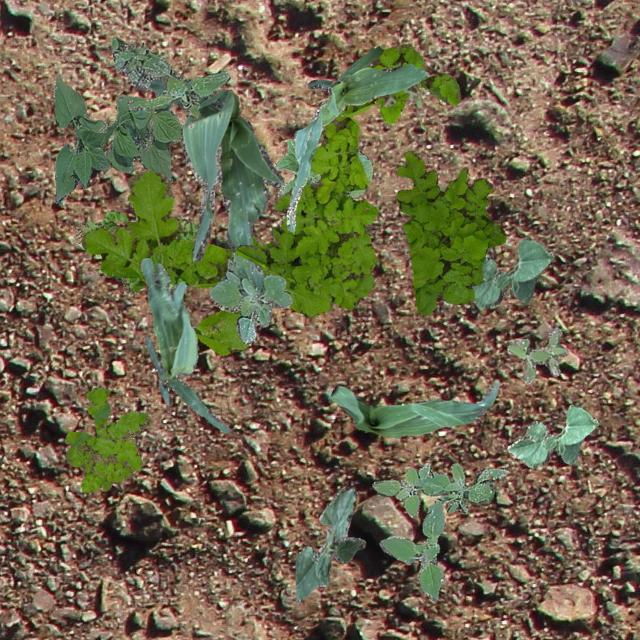crop: (130, 78, 282, 294), (285, 45, 427, 232), (52, 74, 182, 202), (140, 256, 228, 432), (330, 379, 498, 436), (294, 486, 364, 602), (273, 138, 372, 198), (470, 236, 552, 308), (507, 404, 598, 466)
weed: (235, 44, 460, 308), (80, 168, 332, 354), (372, 462, 508, 600), (396, 150, 504, 314), (72, 210, 198, 294), (110, 36, 228, 119), (64, 386, 150, 492), (208, 252, 292, 342), (506, 326, 566, 384), (376, 82, 422, 105)
